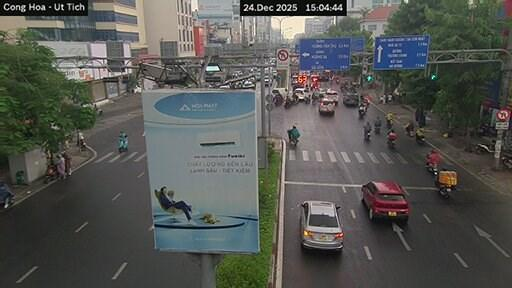motorbike: (0, 182, 14, 208), (475, 139, 495, 154), (44, 164, 58, 183), (437, 185, 452, 198), (287, 130, 298, 146), (426, 163, 438, 175), (387, 133, 396, 148), (284, 97, 297, 107), (502, 154, 511, 168), (118, 138, 127, 152), (273, 94, 283, 105), (94, 104, 102, 115), (79, 139, 86, 151), (289, 137, 298, 146), (387, 138, 395, 148), (416, 136, 425, 144), (364, 130, 370, 140), (386, 119, 392, 128), (358, 109, 364, 118), (406, 129, 413, 136), (374, 125, 380, 133), (311, 96, 317, 104), (304, 96, 310, 103)
